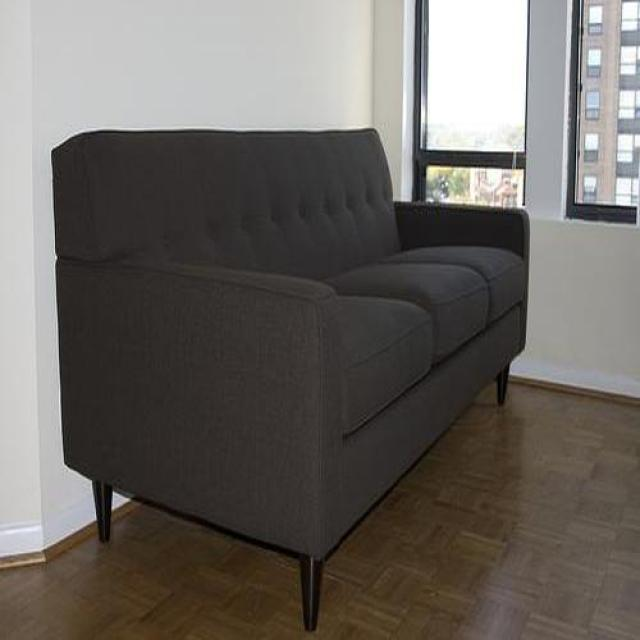sofa: (49, 128, 529, 634)
